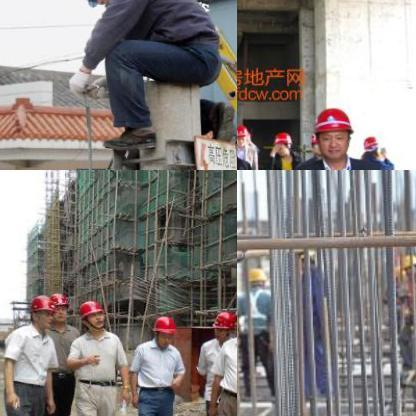Helmet: (310, 105, 354, 161), (75, 296, 107, 332), (27, 294, 57, 328), (238, 263, 270, 289), (270, 130, 298, 158), (151, 315, 177, 345), (211, 310, 235, 342), (358, 135, 382, 159), (49, 292, 67, 323), (237, 121, 255, 151)
